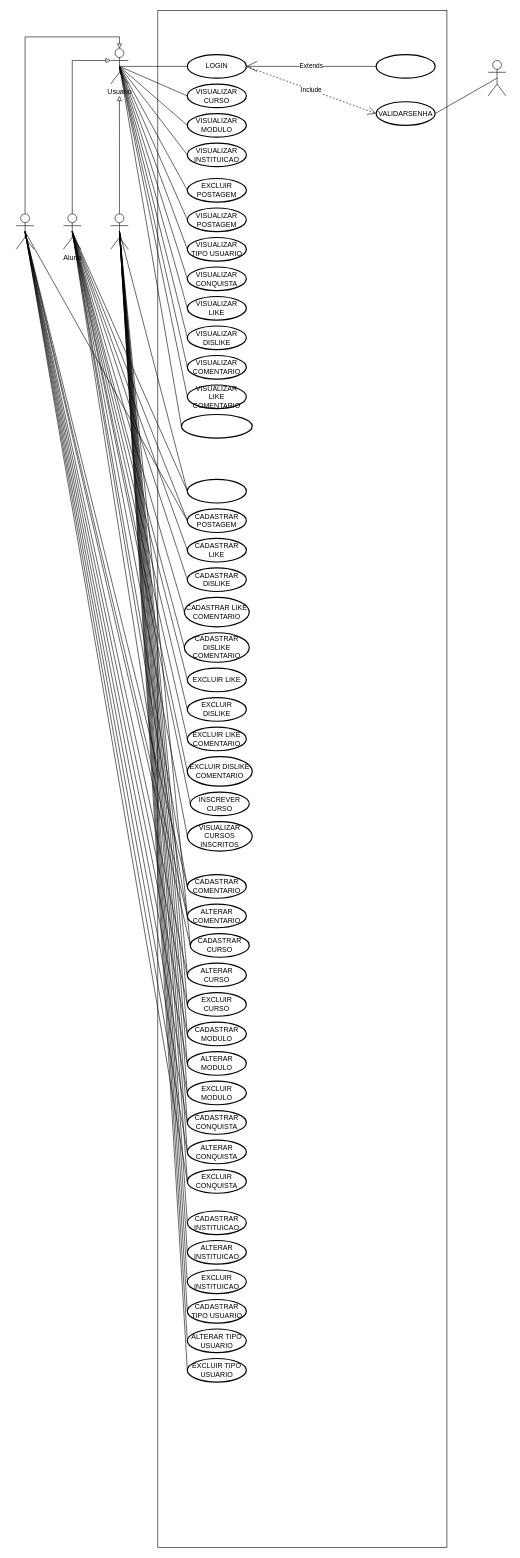
Some shapes in this 520 by 1558 pixel diagram are drawn without their labels. The centre of each missing label's shape, as x and y in pixels:
Adm: (119,231)
CRIAR CONTA: (405,66)
EXCLUIR COMENTARIO: (216,490)
Professor: (25,231)
Sistema: (497,78)
VISUALIZAR DISLIKE COMENTARIO: (217,426)
